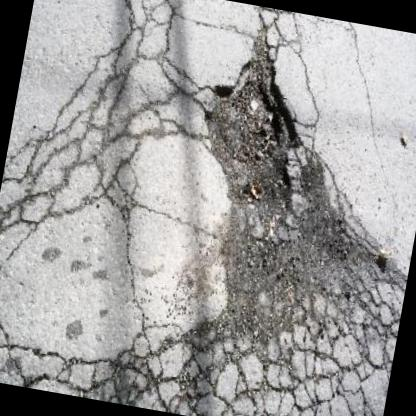pothole: (186, 17, 324, 217)
